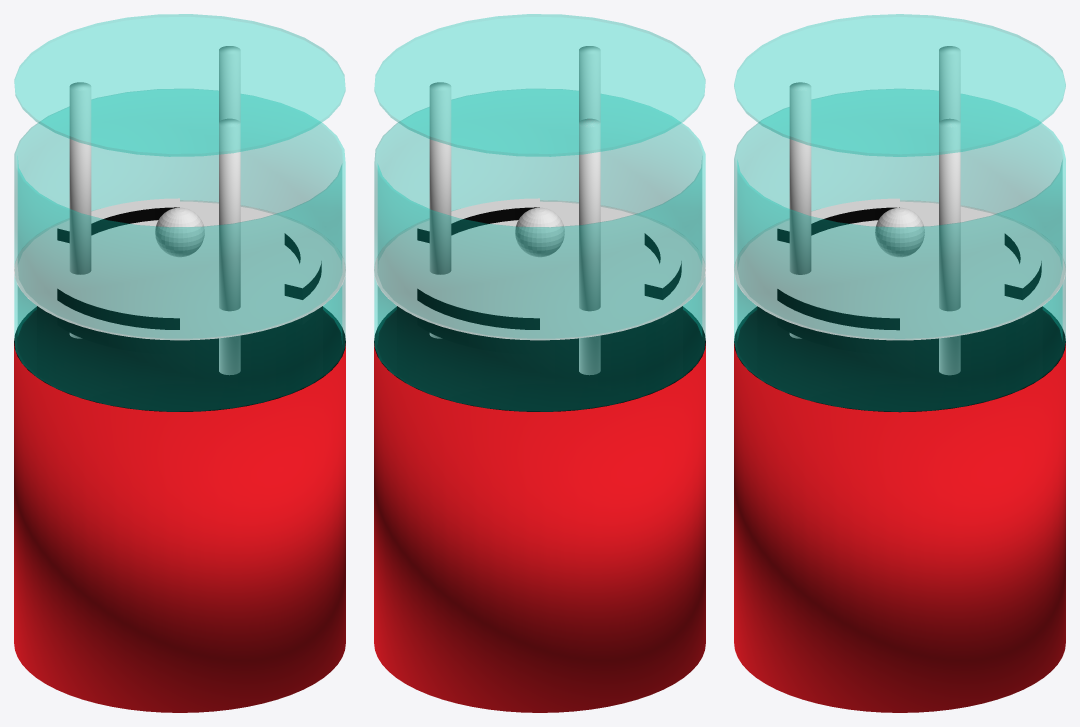
3 views of the same model, side by side, from view 1: azimuth 30°, elevation 25°; view 2: azimuth 150°, elevation 25°; view 3: azimuth 270°, elevation 25° (orthographic).
Parts seen in each view (by area): view 1: Base, Side_glass, Top_Glass, Table, TableMoveCircle, Opora.003, Opora.002, TableCircle, Сфера, Opora.001; view 2: Base, Side_glass, Top_Glass, Table, TableMoveCircle, Opora.002, Opora.001, TableCircle, Сфера, Opora.003; view 3: Base, Side_glass, Top_Glass, Table, TableMoveCircle, Opora.001, Opora.003, TableCircle, Сфера, Opora.002.
Boxes of the visible parts, bbox=[...] form: Base: bbox=[14, 307, 345, 712]; Side_glass: bbox=[14, 89, 345, 411]; Top_Glass: bbox=[14, 14, 345, 156]; Table: bbox=[14, 200, 345, 399]; TableMoveCircle: bbox=[57, 198, 321, 354]; Opora.003: bbox=[219, 118, 240, 375]; Opora.002: bbox=[69, 82, 91, 338]; TableCircle: bbox=[38, 210, 302, 329]; Сфера: bbox=[155, 207, 204, 257]; Opora.001: bbox=[219, 46, 240, 121]; Base: bbox=[374, 307, 705, 712]; Side_glass: bbox=[374, 89, 705, 411]; Top_Glass: bbox=[374, 14, 705, 156]; Table: bbox=[374, 200, 705, 399]; TableMoveCircle: bbox=[417, 198, 681, 354]; Opora.002: bbox=[579, 118, 600, 375]; Opora.001: bbox=[429, 82, 451, 338]; TableCircle: bbox=[398, 210, 662, 329]; Сфера: bbox=[515, 207, 564, 257]; Opora.003: bbox=[579, 46, 600, 121]; Base: bbox=[734, 307, 1065, 712]; Side_glass: bbox=[734, 89, 1065, 411]; Top_Glass: bbox=[734, 14, 1065, 156]; Table: bbox=[734, 200, 1065, 399]; TableMoveCircle: bbox=[777, 198, 1041, 354]; Opora.001: bbox=[939, 118, 960, 375]; Opora.003: bbox=[789, 82, 811, 338]; TableCircle: bbox=[758, 210, 1021, 330]; Сфера: bbox=[875, 207, 924, 257]; Opora.002: bbox=[939, 46, 960, 121].
Bounding box in the file's own units: 2 × 3.71 × 2.
